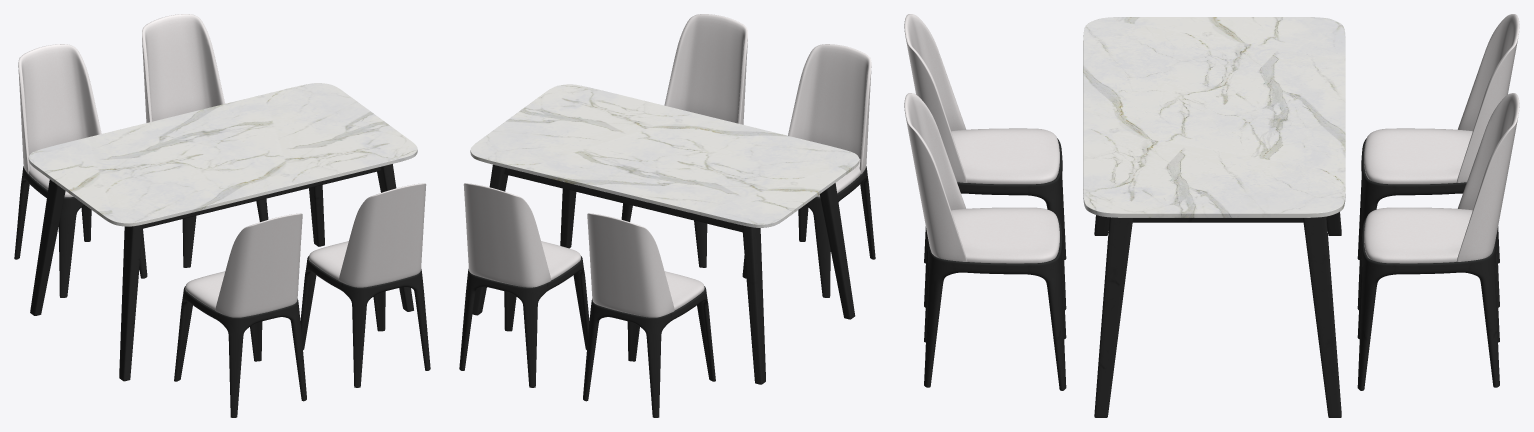
The model's file is diningtable.fbx.
The picture shows the model from 3 angles, left to right: view 1: azimuth 30°, elevation 25°; view 2: azimuth 150°, elevation 25°; view 3: azimuth 270°, elevation 25°; orthographic projection. The views are drawn at different scales.
Parts seen in each view (by area): view 1: Object_12; view 2: Object_12; view 3: Object_12.
Part boxes in pixels (bbox=[...]): Object_12: bbox=[14, 14, 430, 417]; Object_12: bbox=[459, 14, 875, 417]; Object_12: bbox=[904, 14, 1519, 417].
Bounding box in the file's own units: 149704 × 91873 × 197985.
1 material, 1 textured.
